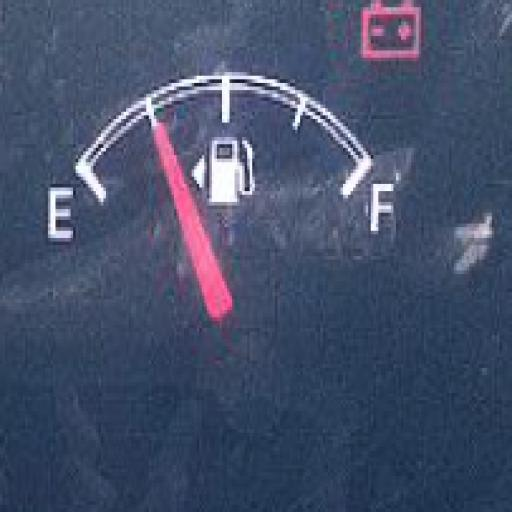empty: (47, 181, 76, 248)
fuel_icon: (208, 132, 255, 206)
full: (368, 179, 396, 237)
guage_area: (12, 17, 499, 491)
needle_center: (200, 288, 305, 453)
needle_tip: (151, 118, 185, 186)
